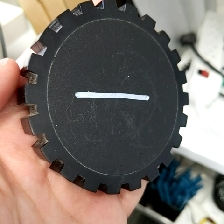gear: (15, 1, 191, 196)
